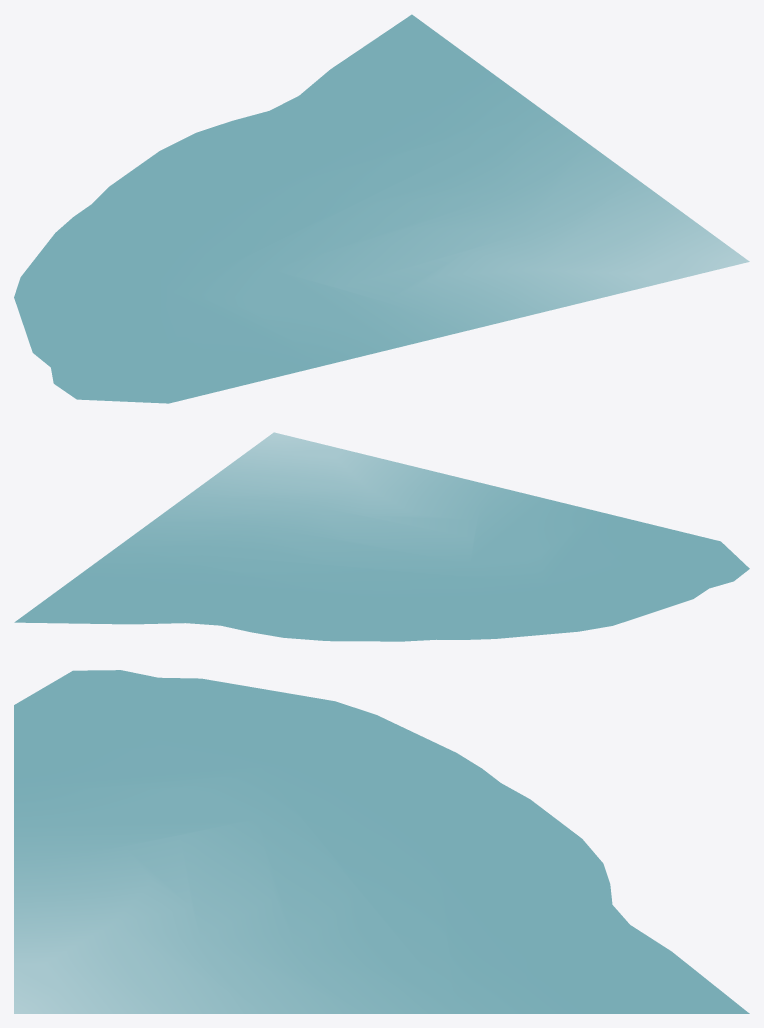
3 views of the same model, one above another, from view 1: azimuth 30°, elevation 25°; view 2: azimuth 150°, elevation 25°; view 3: azimuth 270°, elevation 25° (orthographic). The views are drawn at different scales.
Parts seen in each view (by area): view 1: city; view 2: city; view 3: city.
Part boxes in pixels (<box>): city: <box>14,14,749,403</box>; city: <box>14,432,749,641</box>; city: <box>14,670,749,1013</box>.
Size of the model in its own units: 290 by 0 by 263.
